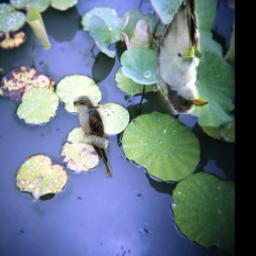Cuckoo: (156, 0, 208, 114), (73, 97, 112, 179)
